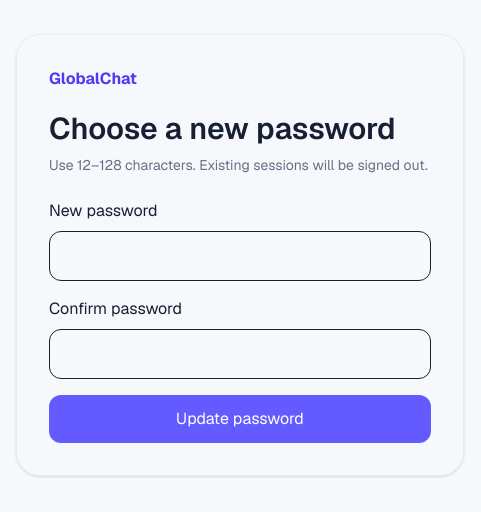
Test case: validates confirmation and resets using only the URL token
This screenshot has width=481, height=512.
Type "A valid new password!" into the password field labelled "New password".
click(240, 256); type("A valid new password!")  # box [49,231,431,281]
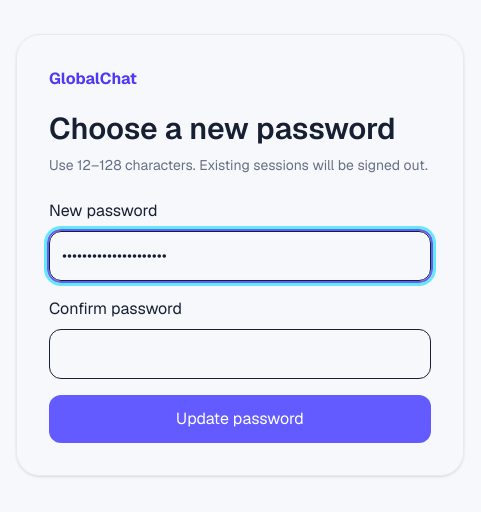
Type "different password" into the password field labelled "Confirm password".
click(240, 354); type("different password")  # box [49,329,431,379]
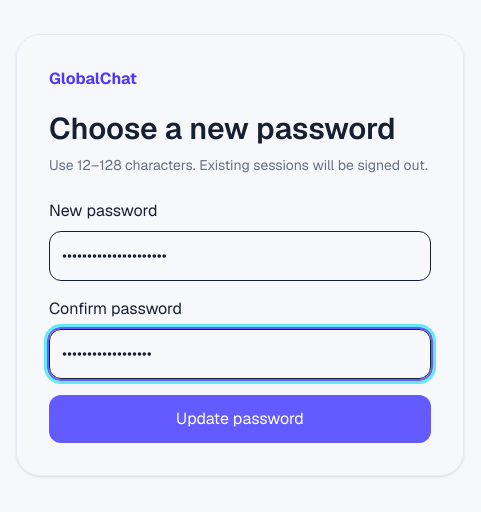
Click the button "Update password".
click(240, 419)  # box [49,395,431,443]
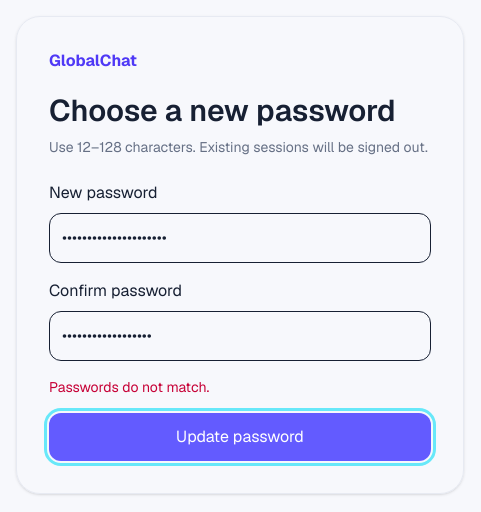
Expected: the message reads "Passwords do not match.", [49,378,209,396]
Type "A valid new password!" into the password field labelled "Confirm password".
click(240, 336); type("A valid new password!")  # box [49,311,431,361]
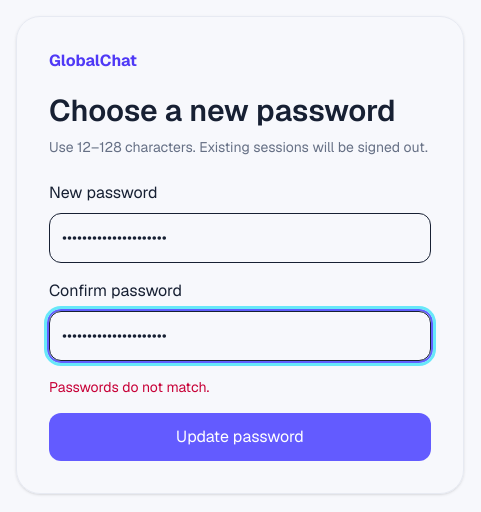
Click the button "Update password".
click(240, 437)  # box [49,413,431,461]
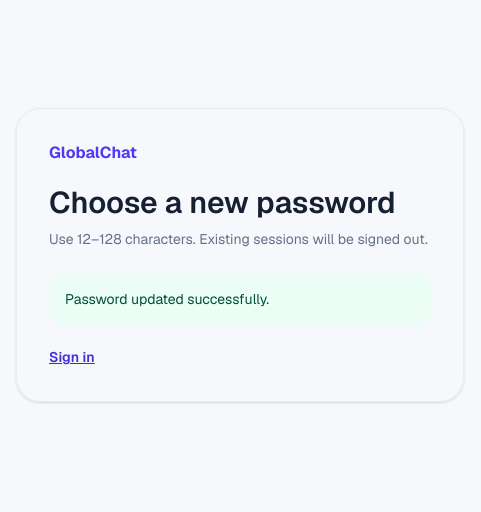
Expected: the message reads "Password updated successfully.", [65,290,269,308]
